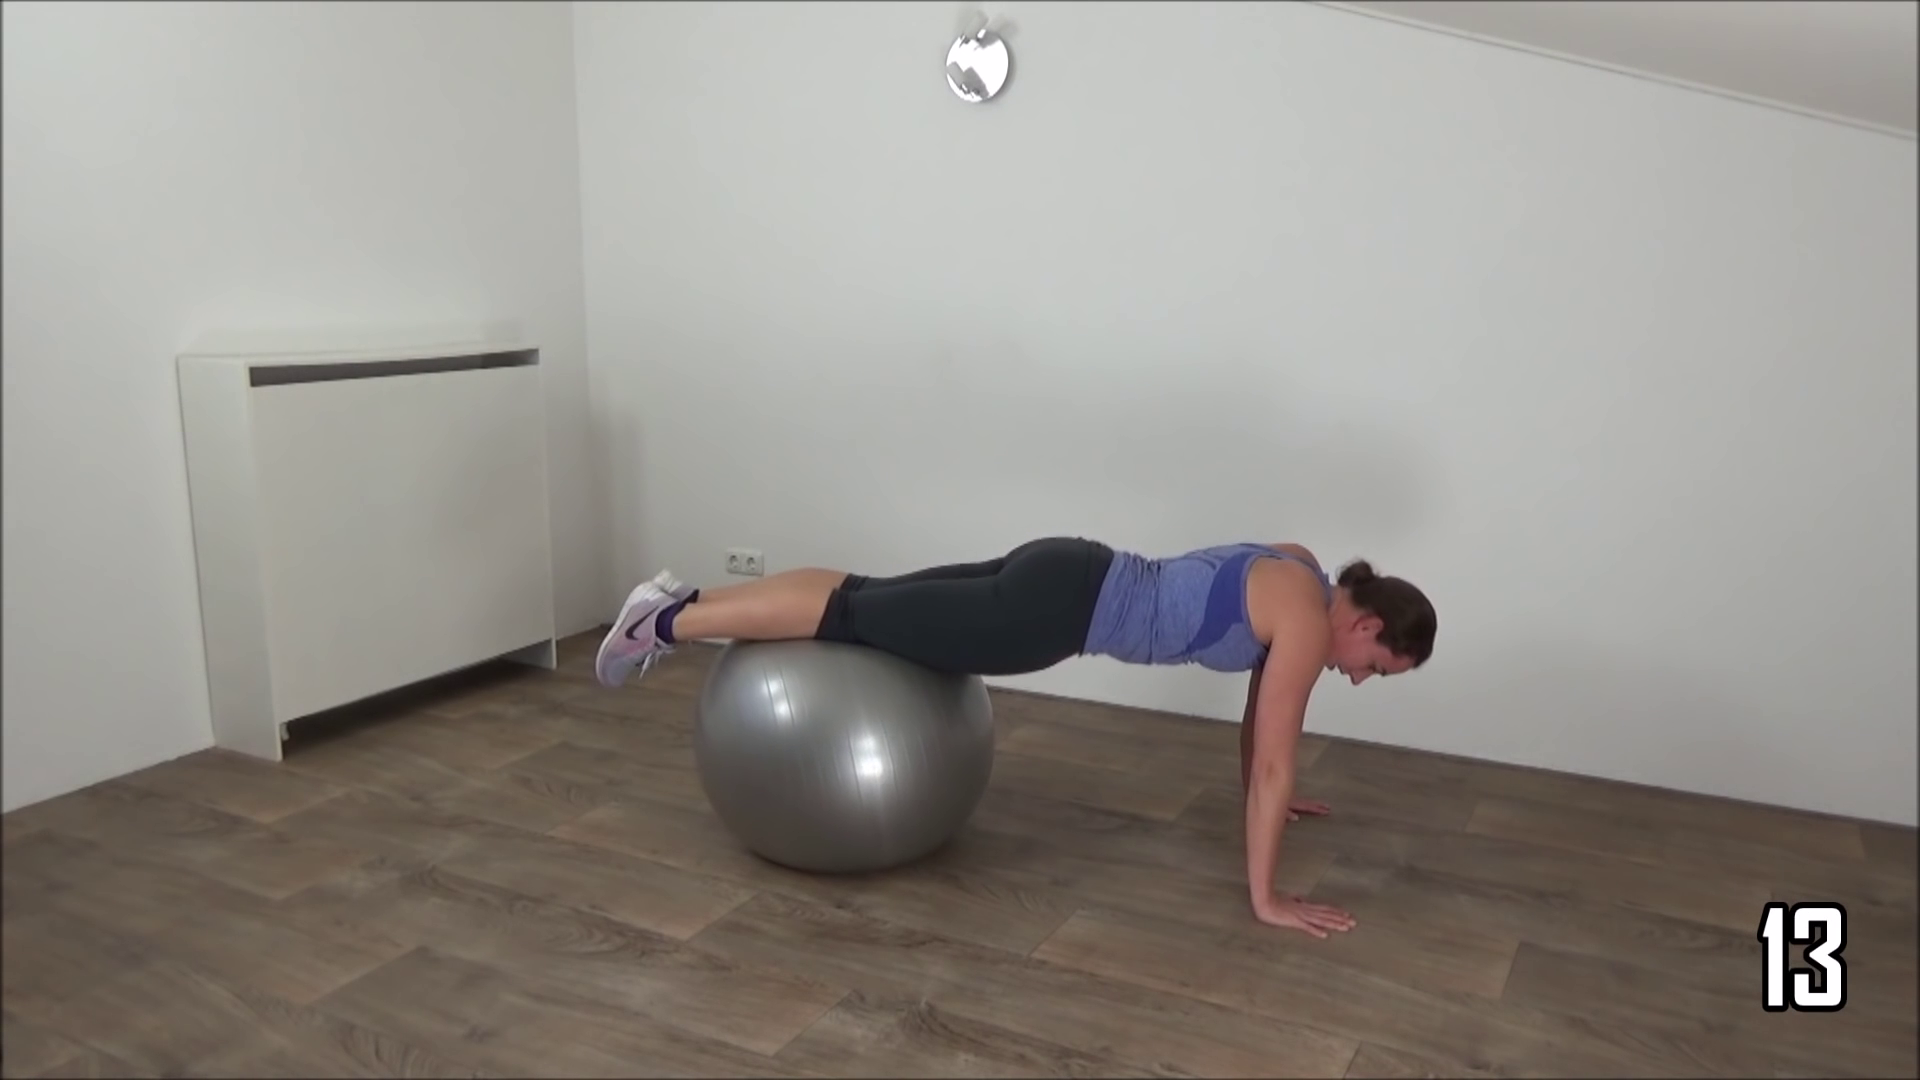yogaball: (680, 624, 1015, 899)
